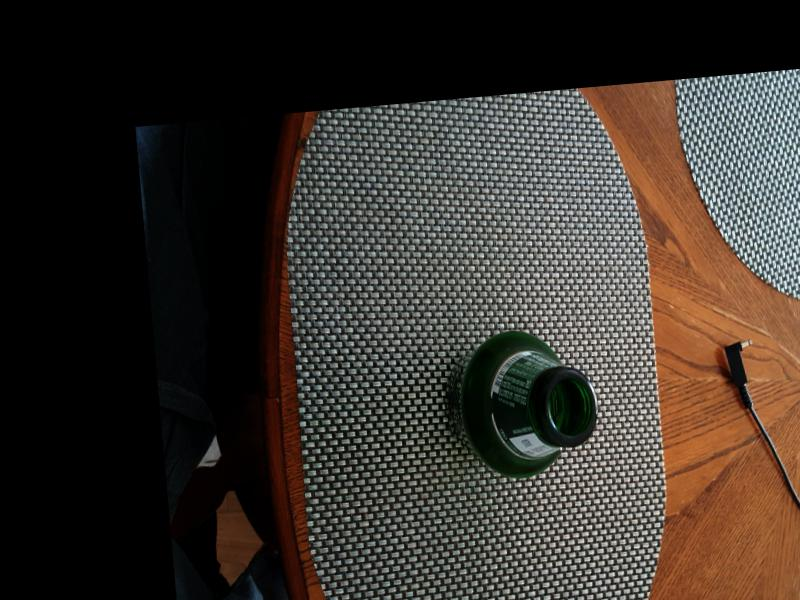Beer: (442, 330, 600, 475)
